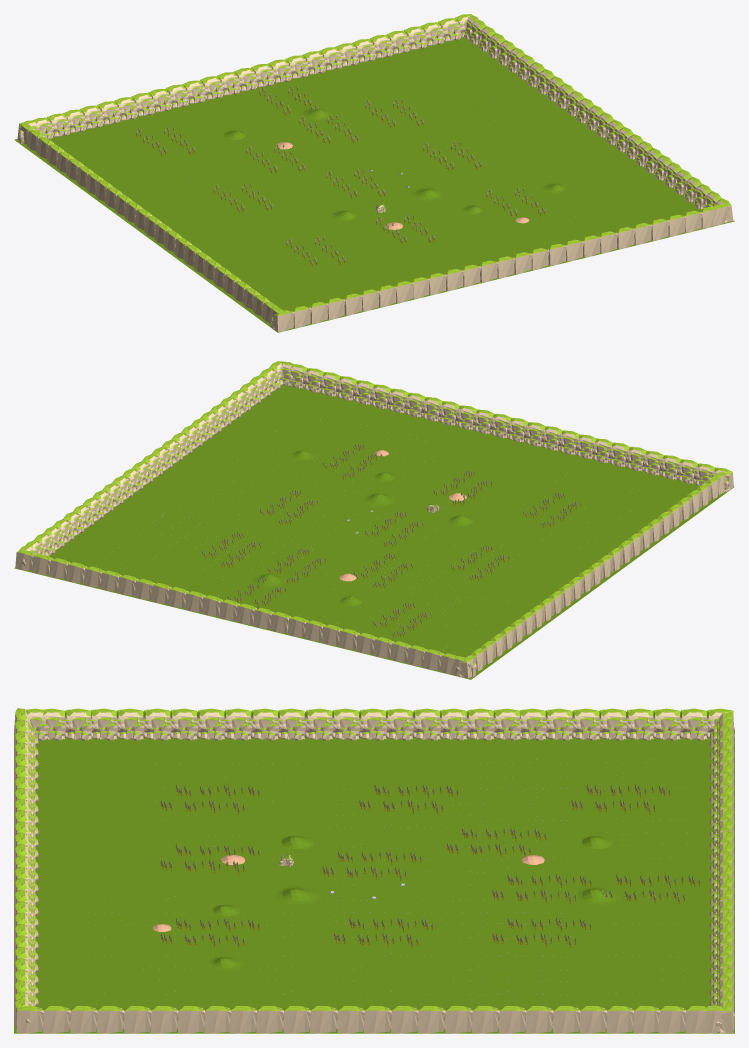
The model's file is Pueblo12.fbx.
3 views of the same model, one above another, from view 1: azimuth 30°, elevation 25°; view 2: azimuth 150°, elevation 25°; view 3: azimuth 270°, elevation 25° (orthographic). The views are drawn at different scales.
Visible parts, largest first — view 1: Terrein, Clifs1, Plane.001, Plane; view 2: Terrein, Clifs1, Plane.001, Plane; view 3: Terrein, Clifs1, Plane.001, Plane.
Boxes of the visible parts, x1=… form: Terrein: x1=14, y1=37, x2=734, y2=332; Clifs1: x1=17, y1=14, x2=733, y2=332; Plane.001: x1=294, y1=104, x2=570, y2=202; Plane: x1=223, y1=130, x2=482, y2=220; Terrein: x1=14, y1=384, x2=734, y2=679; Clifs1: x1=15, y1=361, x2=733, y2=678; Plane.001: x1=247, y1=449, x2=399, y2=590; Plane: x1=339, y1=472, x2=473, y2=605; Terrein: x1=14, y1=729, x2=734, y2=1033; Clifs1: x1=14, y1=708, x2=734, y2=1033; Plane.001: x1=210, y1=886, x2=621, y2=970; Plane: x1=211, y1=835, x2=612, y2=916.
Bounding box in the file's own units: 500 × 19.27 × 500.
